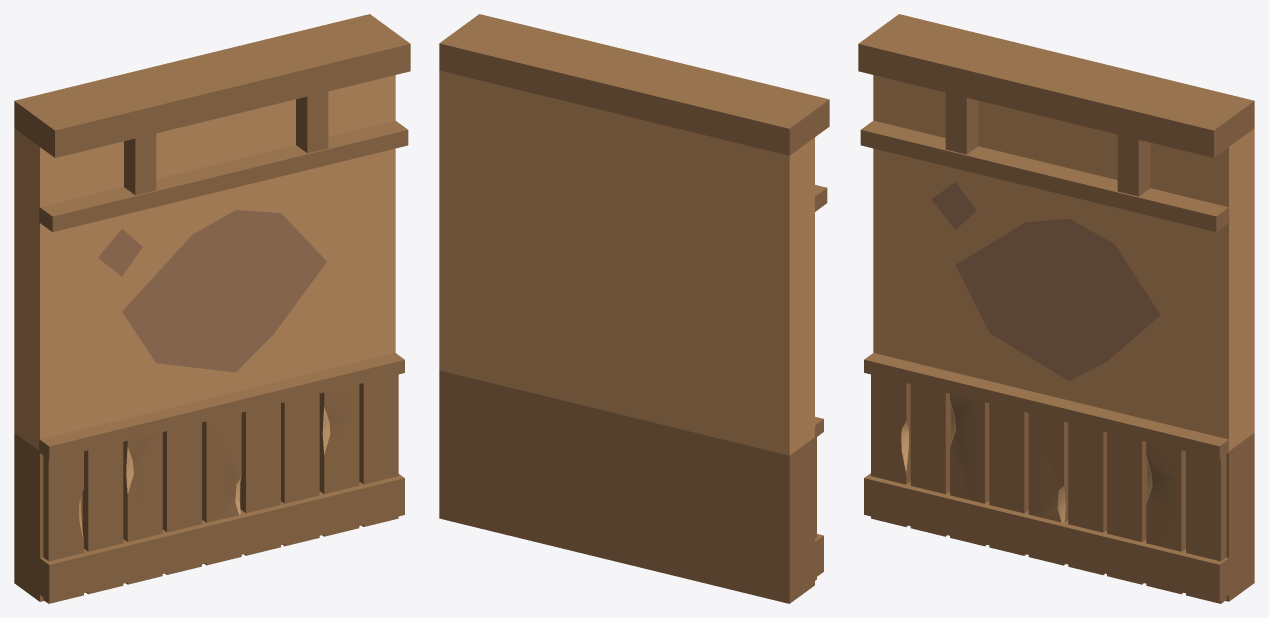
Rendered from quaternius-sushi-restaurant-wall-stains.glb.
The picture shows the model from 3 angles, left to right: view 1: azimuth 30°, elevation 25°; view 2: azimuth 150°, elevation 25°; view 3: azimuth 330°, elevation 25°; orthographic projection.
Parts seen in each view (by area): view 1: Wall_Stains; view 2: Wall_Stains; view 3: Wall_Stains.
Part boxes in pixels (x1,y1,x2,y2): Wall_Stains: (14,14,410,603); Wall_Stains: (439,14,829,603); Wall_Stains: (858,14,1254,603).
Size of the model in its own units: 4 by 5.18 by 0.7949.
Materials: 1 (1 with a texture image).
